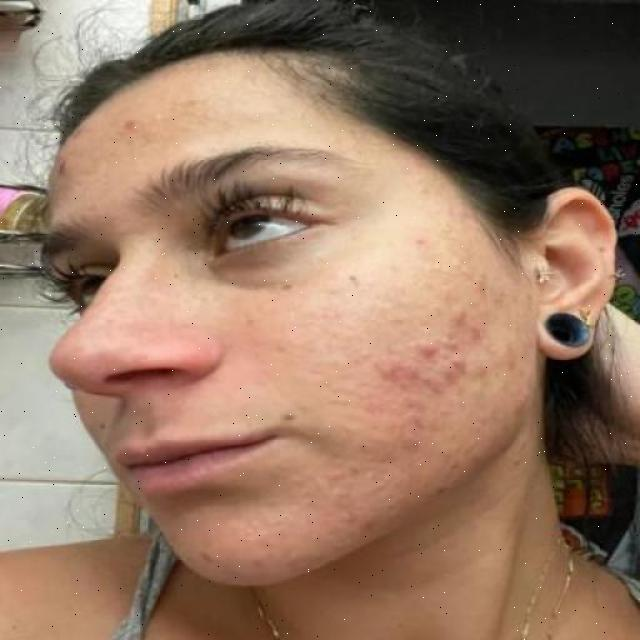Acne: (187, 239, 506, 572), (54, 120, 141, 176)
